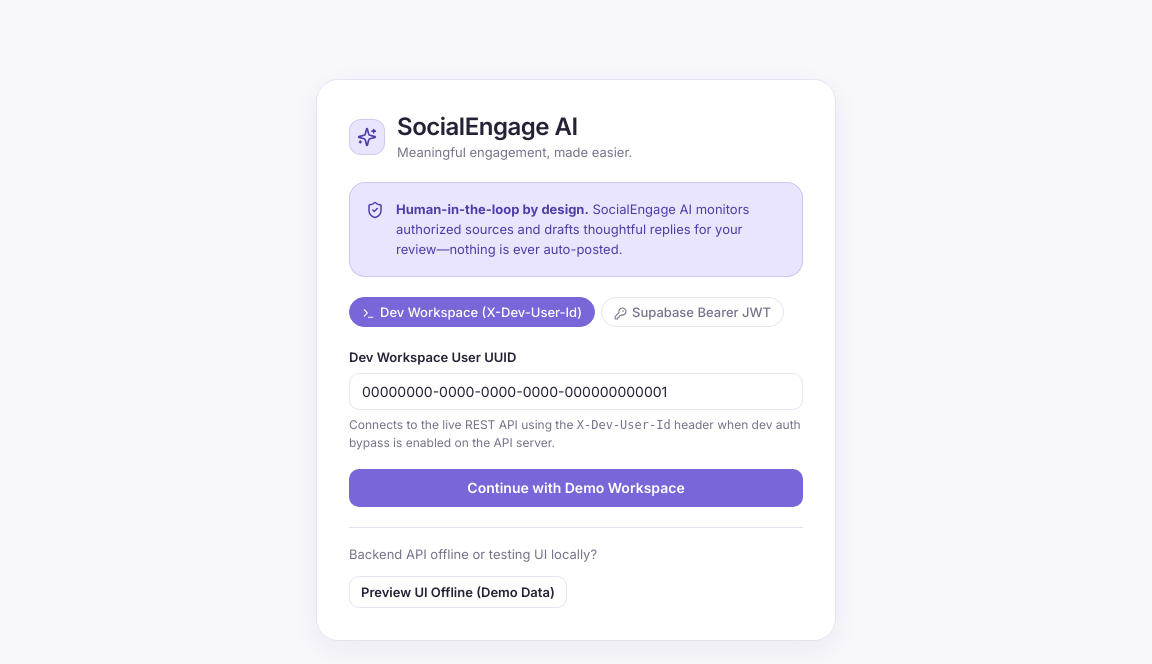
Scenario: SocialEngage AI Frontend › renders Auth sign-in view and allows entering Demo Preview or Dev Workspace
Expected: the heading "SocialEngage AI" is shown, [397,112,578,141]
Expected: the button "Continue with Demo Workspace" is shown, [349,469,803,507]
Click the button "Preview UI Offline (Demo Data)" at {"x": 458, "y": 592}, box [349,576,567,608]
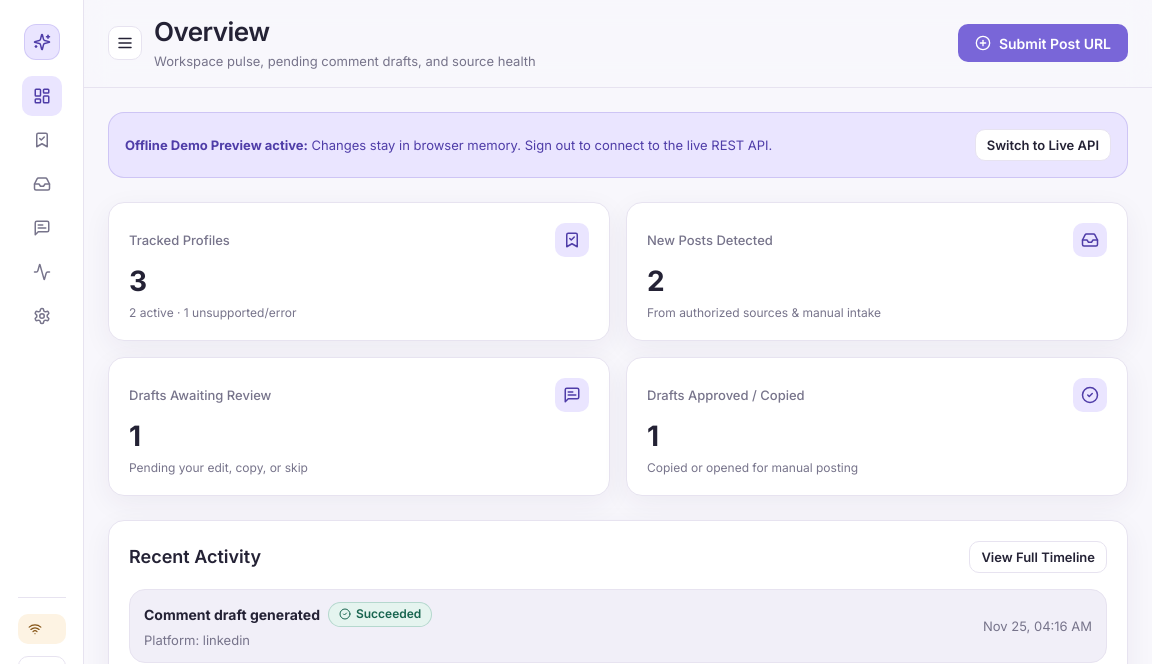
Expected: the heading "Overview" is shown, [154,16,270,47]
Expected: the text "Tracked Profiles" is shown, [129,232,230,248]
